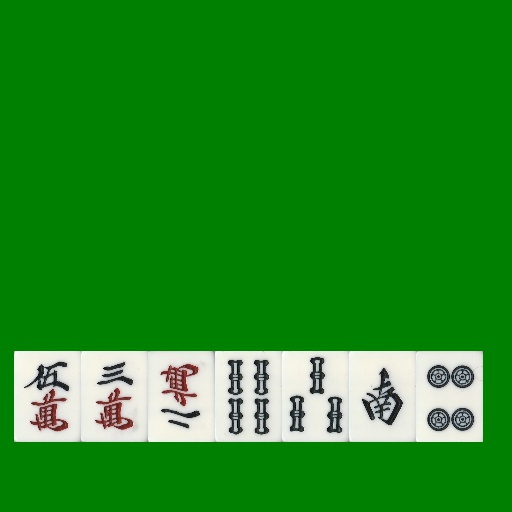2m: (148, 351, 215, 442)
3m: (81, 351, 148, 442)
3s: (282, 351, 349, 442)
4p: (416, 351, 483, 442)
4s: (215, 351, 282, 442)
5m: (14, 351, 81, 442)
south: (349, 351, 416, 442)
